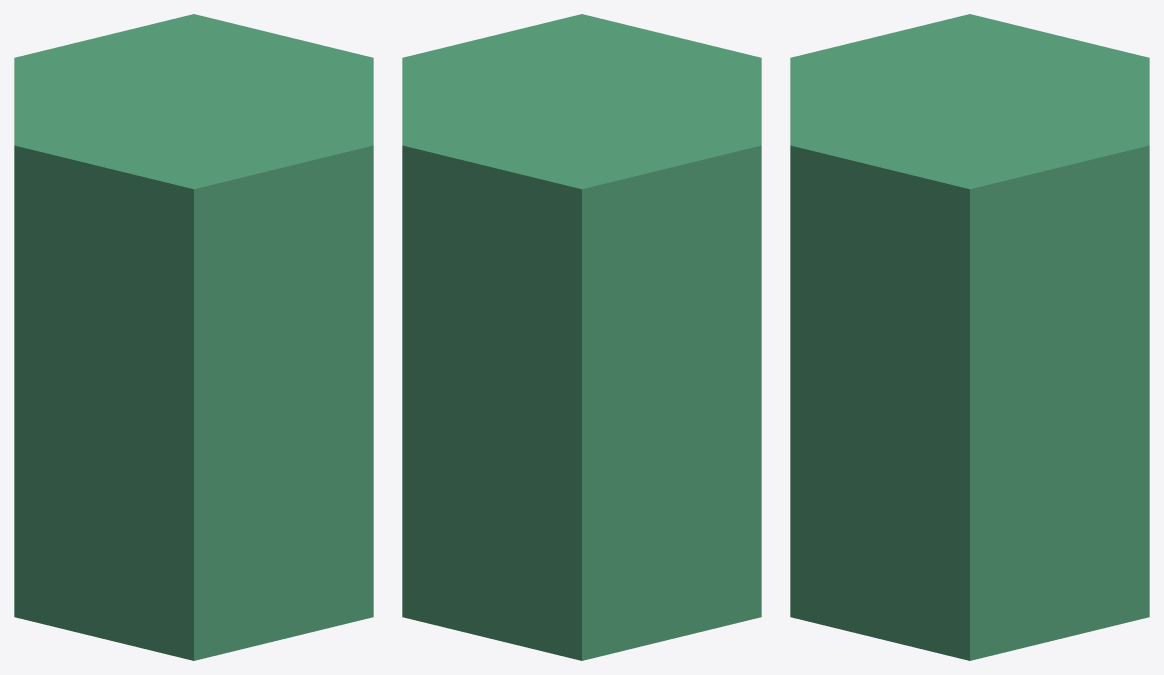
The picture shows the model from 3 angles, left to right: view 1: azimuth 30°, elevation 25°; view 2: azimuth 150°, elevation 25°; view 3: azimuth 270°, elevation 25°; orthographic projection.
Parts seen in each view (by area): view 1: polySurface735; view 2: polySurface735; view 3: polySurface735.
Part boxes in pixels (x1,y1,x2,y2): polySurface735: (14,14,373,660); polySurface735: (402,14,761,660); polySurface735: (790,14,1149,660).
Size of the model in its own units: 2 by 2.51 by 1.73.
